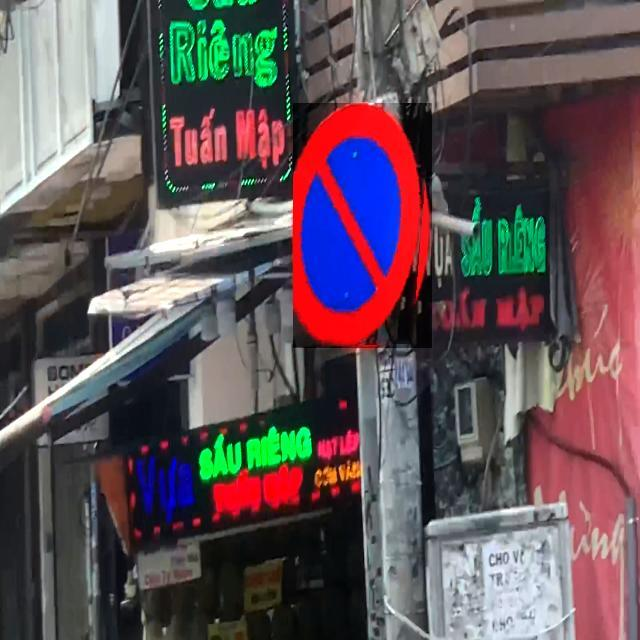P-131a: (293, 103, 432, 348)
